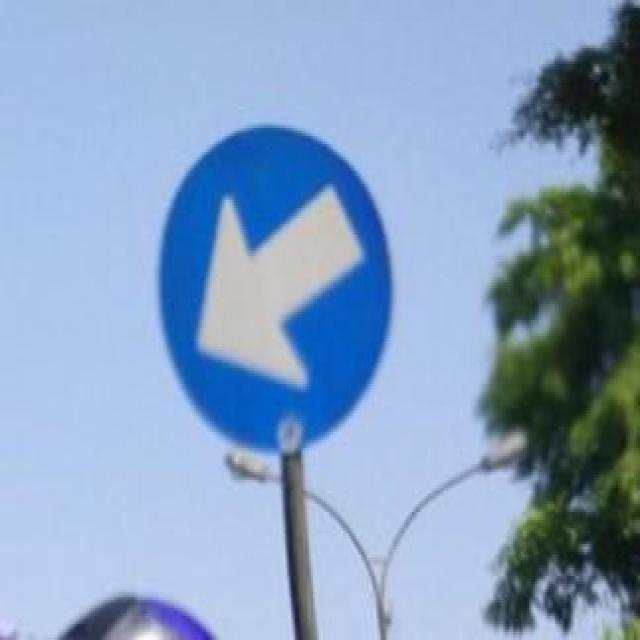traffic sign: (159, 126, 391, 454)
